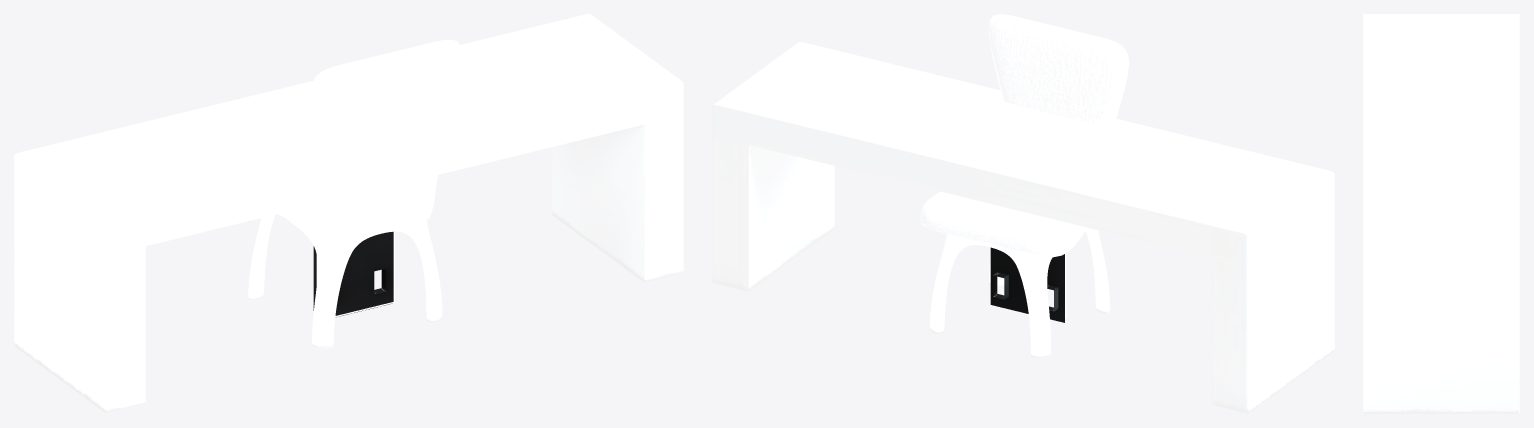
File: modern-reception-fittings.glb
The picture shows the model from 3 angles, left to right: view 1: azimuth 30°, elevation 25°; view 2: azimuth 150°, elevation 25°; view 3: azimuth 270°, elevation 25°; orthographic projection. The views are drawn at different scales.
Visible parts, largest first — view 1: PreparationTable, ReceptionTaskChair, WallLightHousing; view 2: PreparationTable, ReceptionTaskChair, WallLightHousing; view 3: PreparationTable, ReceptionTaskChair.
Part boxes in pixels (x1,y1,x2,y2): PreparationTable: (14, 14, 683, 413); ReceptionTaskChair: (248, 39, 462, 348); WallLightHousing: (313, 231, 393, 317); PreparationTable: (712, 42, 1334, 413); ReceptionTaskChair: (920, 14, 1128, 357); WallLightHousing: (990, 247, 1064, 322); PreparationTable: (1363, 14, 1519, 413); ReceptionTaskChair: (1370, 29, 1383, 156).
Size of the model in its own units: 2.54 by 1.2 by 0.7064.
Materials: 4 (3 with a texture image).
